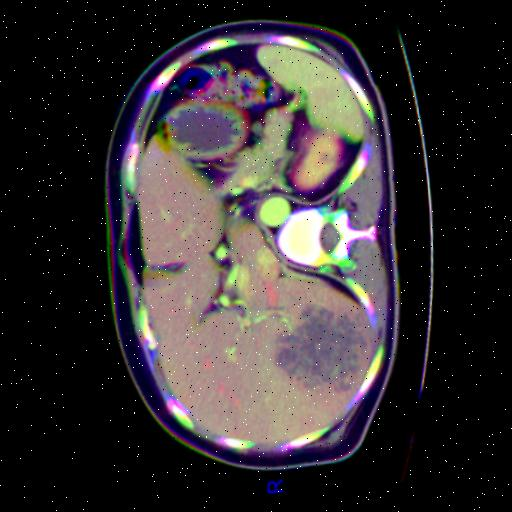Abscess: (274, 312, 367, 397)
